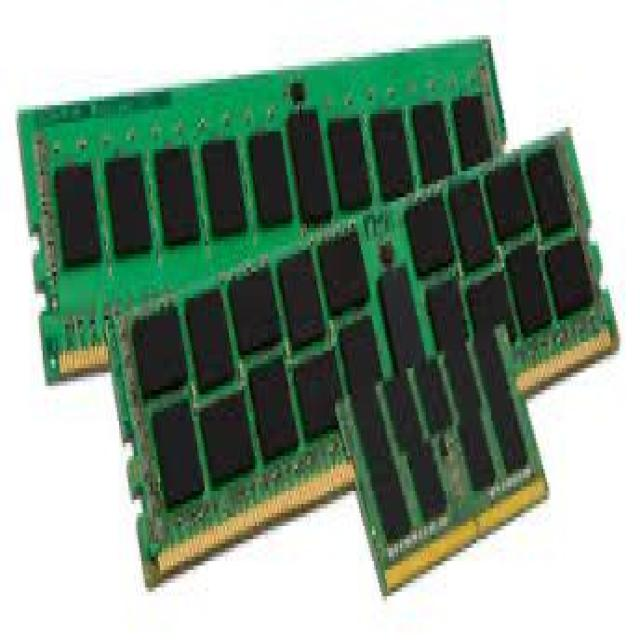Ram: (30, 50, 584, 549)
